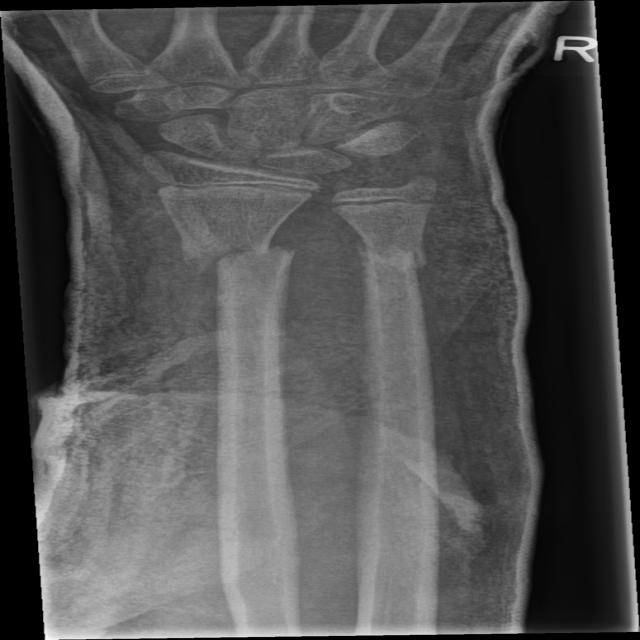radius fracture: (162, 221, 314, 324)
ulna fracture: (333, 228, 449, 314)
